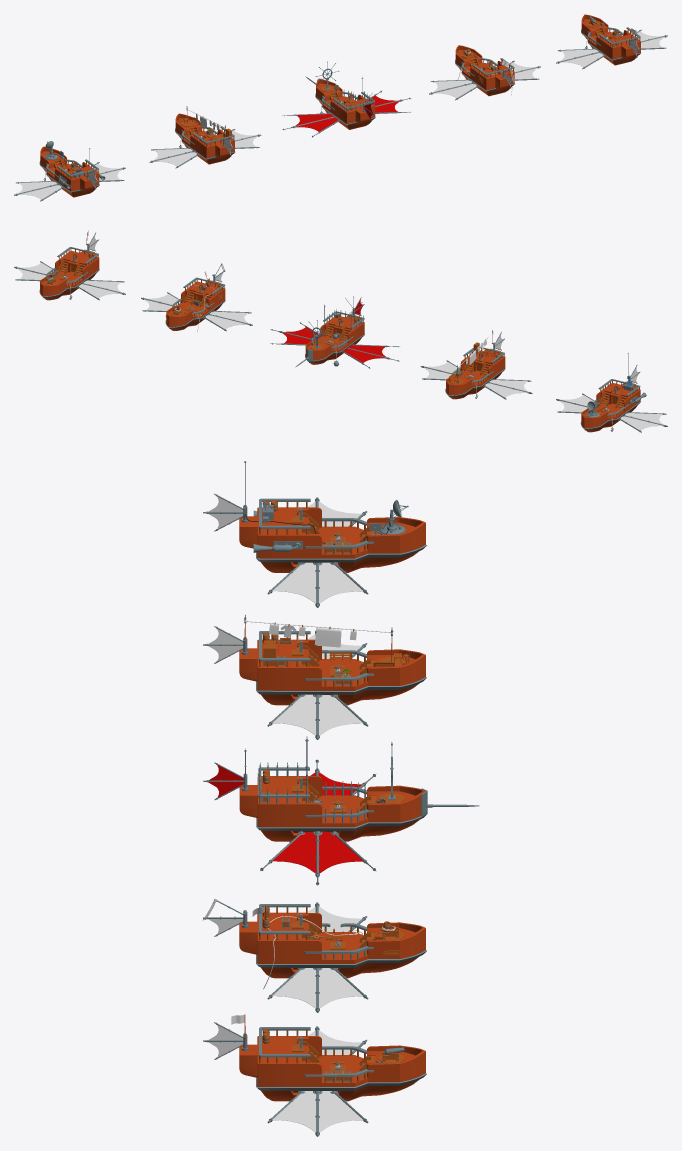
File: BTO.fbx
3 renders of one model, top to bottom at view 1: azimuth 30°, elevation 25°; view 2: azimuth 150°, elevation 25°; view 3: azimuth 270°, elevation 25°, orthographic. The views are drawn at different scales.
Visible parts, largest first — view 1: Line026, Line011, Line001, Line034, Line043, Line059, Line055, Line044, Line061; view 2: Line026, Line001, Line011, Line043, Line034, Line059, Line044, Line055, Line061; view 3: Line026, Line001, Line011, Line034, Line043, Line054, Line062, Line056, Line060, Group004, Group002, Group010 (+3 smaller).
Boxes of the visible parts, left/top/right/bottom form: Line026: left=315, top=78, right=375, bottom=129; Line011: left=455, top=45, right=515, bottom=96; Line001: left=581, top=14, right=640, bottom=65; Line034: left=175, top=113, right=235, bottom=164; Line043: left=39, top=146, right=99, bottom=197; Line059: left=429, top=82, right=478, bottom=100; Line055: left=149, top=150, right=198, bottom=168; Line044: left=14, top=183, right=63, bottom=201; Line061: left=556, top=52, right=604, bottom=69; Line026: left=305, top=314, right=364, bottom=364; Line001: left=39, top=249, right=99, bottom=300; Line011: left=165, top=280, right=225, bottom=330; Line043: left=580, top=381, right=640, bottom=432; Line034: left=445, top=348, right=505, bottom=399; Line059: left=207, top=310, right=252, bottom=325; Line044: left=622, top=412, right=667, bottom=426; Line055: left=487, top=379, right=532, bottom=393; Line061: left=81, top=280, right=125, bottom=294; Line026: left=239, top=776, right=427, bottom=841; Line001: left=239, top=1036, right=426, bottom=1101; Line011: left=239, top=912, right=426, bottom=978; Line034: left=239, top=639, right=426, bottom=705; Line043: left=239, top=507, right=426, bottom=572; Line054: left=313, top=562, right=368, bottom=607; Line062: left=313, top=1091, right=368, bottom=1136; Line056: left=313, top=694, right=368, bottom=739; Line060: left=313, top=968, right=368, bottom=1012; Group004: left=267, top=694, right=316, bottom=735; Group002: left=267, top=562, right=316, bottom=603; Group010: left=267, top=1091, right=316, bottom=1131.
Size of the model in its own units: 2338 by 192 by 428.
